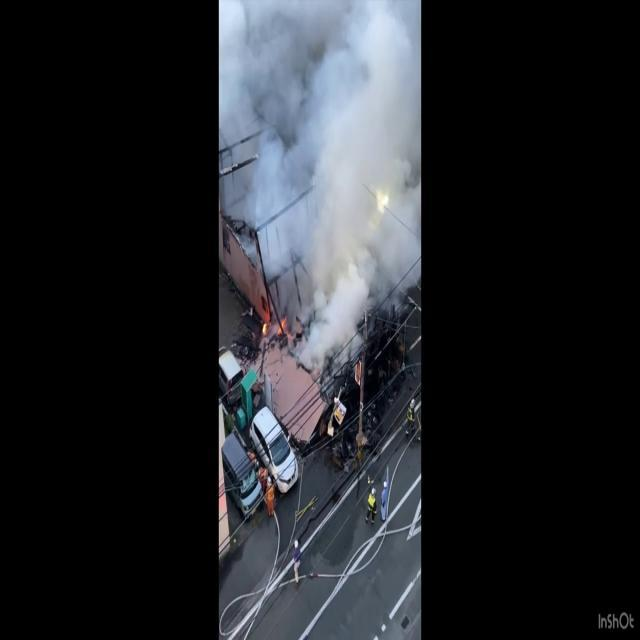Smoke: (220, 0, 420, 366)
